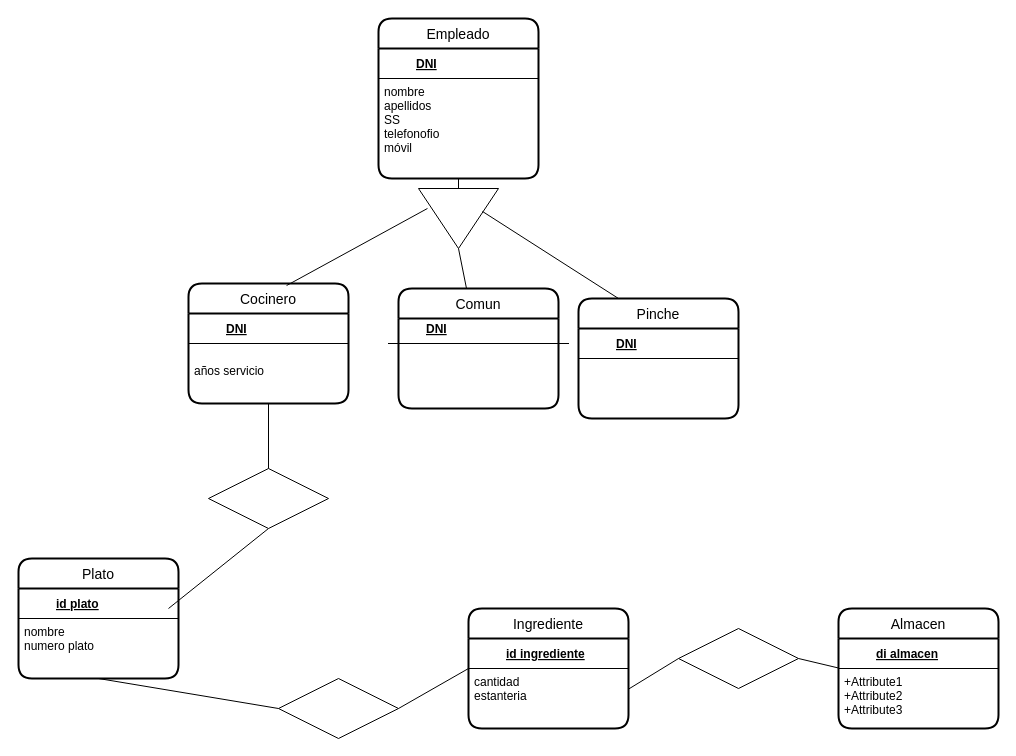
Image size: 1016x756. Some labels were removed from this diagram. The shapes that lost their labels are listed below. From the top down, each one's centre as x and y in pixels, then its label:
[268,498]: Sabe
[738,658]: Pertenece
[338,708]: Tiene
